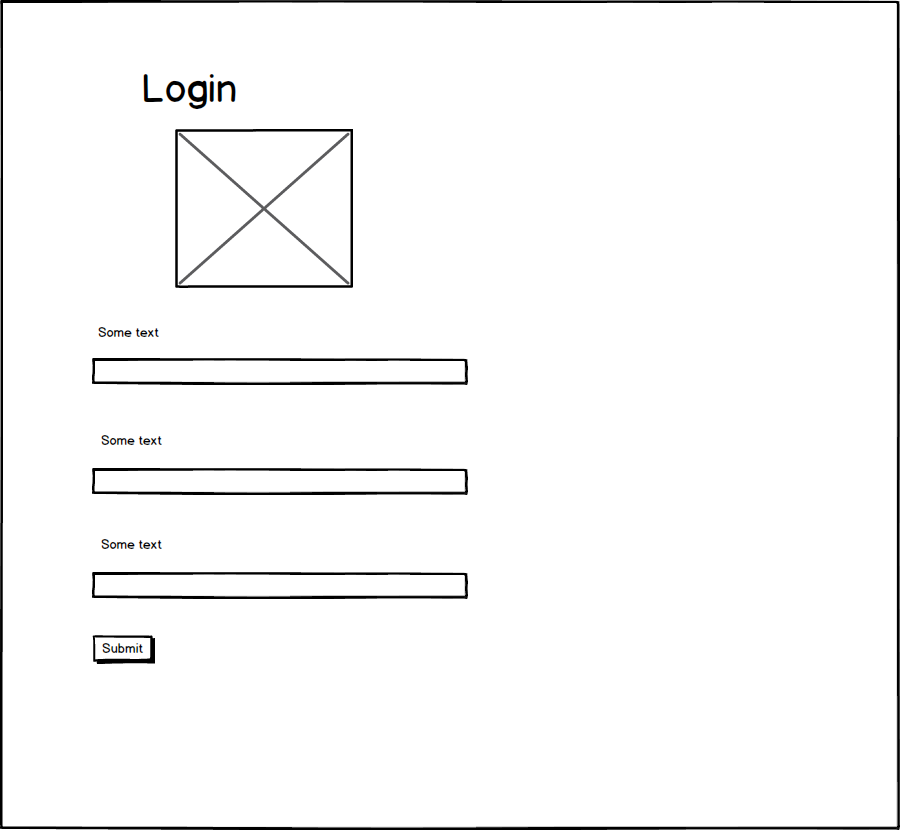button: (85, 629, 164, 671)
h1: (132, 58, 247, 111)
image: (173, 120, 358, 293)
input: (85, 353, 480, 391), (89, 464, 477, 502), (78, 569, 475, 604)
label: (93, 529, 169, 563), (90, 428, 175, 458), (90, 319, 170, 347)
